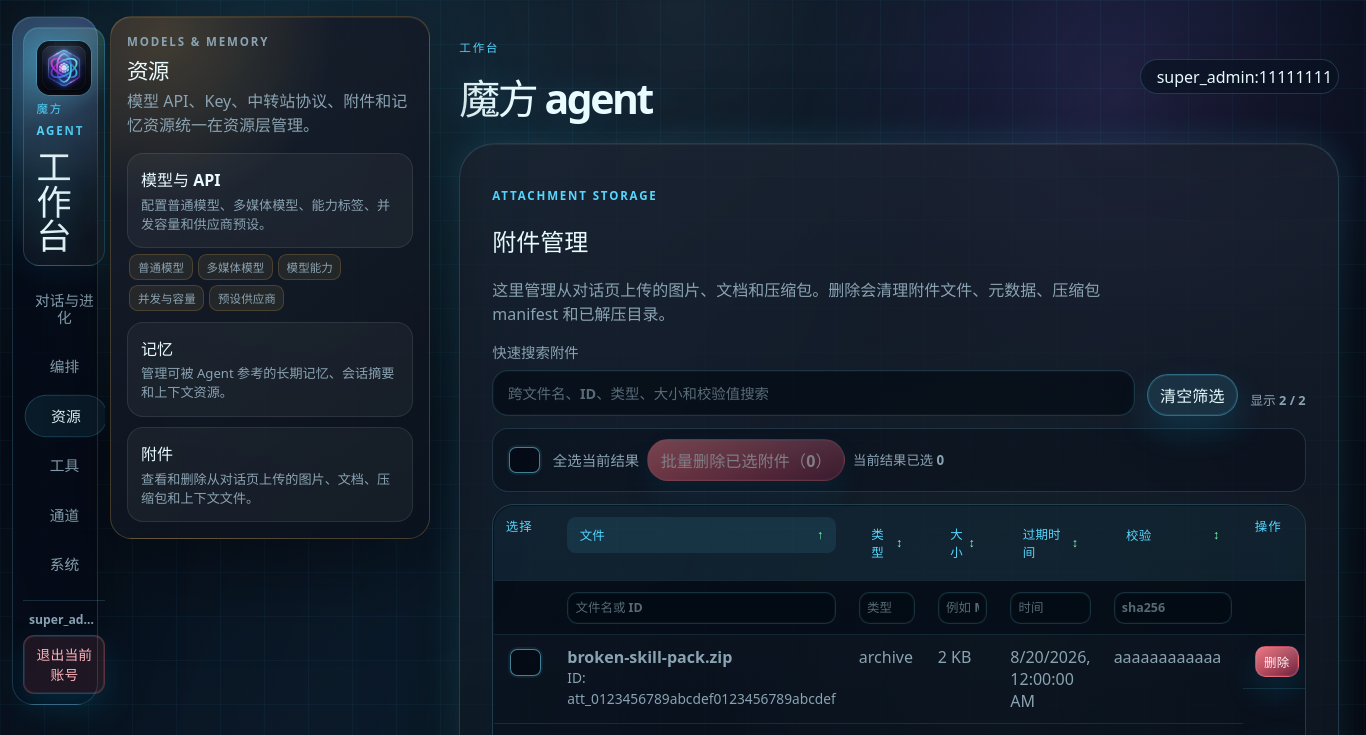
Scenario: AttachmentsPage › filters uploaded attachments by filename, type, and checksum
The image size is (1366, 735).
Expected: the heading "附件管理" is shown, [492,225,588,258]
In the search field labelled "快速搜索附件": (813, 393) [492,370,1135,416], type "context"
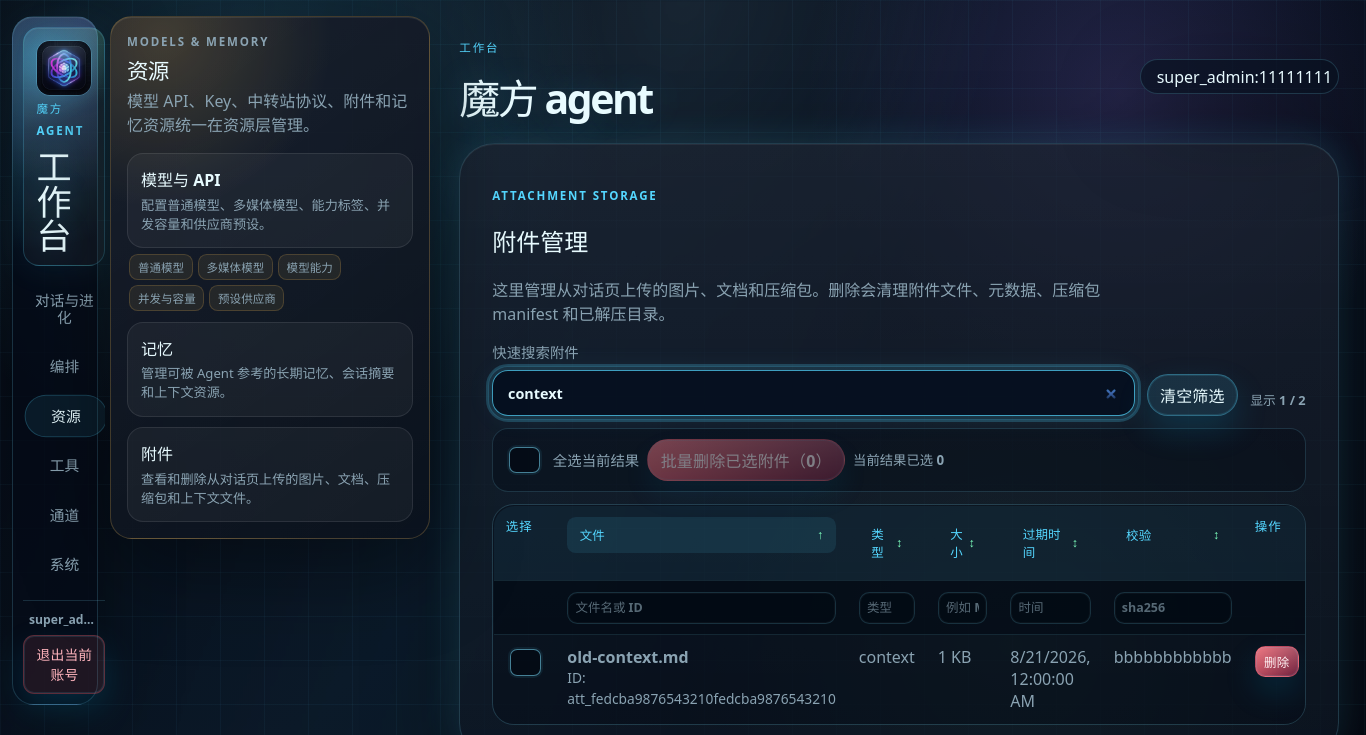
Expected: the text "old-context.md" is shown, [567,646,689,668]
Now the text "broken-skill-pack.zip" is gone
Now the text "显示 1 / 2" is shown, box [1250,391,1306,409]
